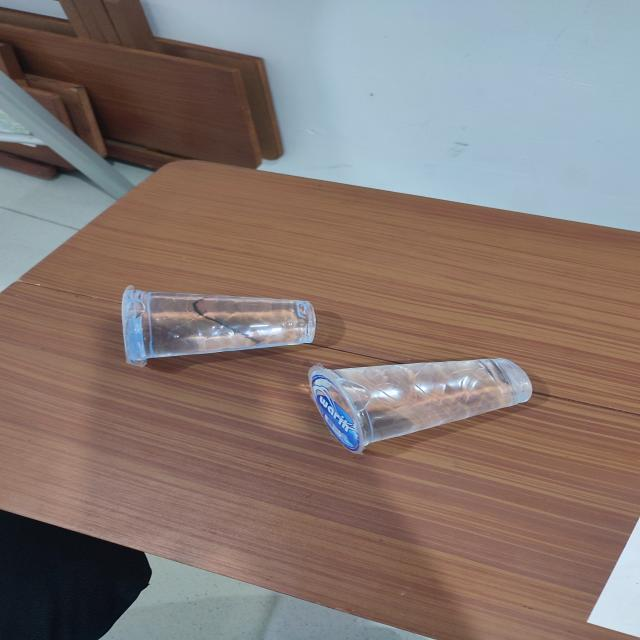air gelas: (305, 352, 555, 451), (109, 277, 328, 368)
